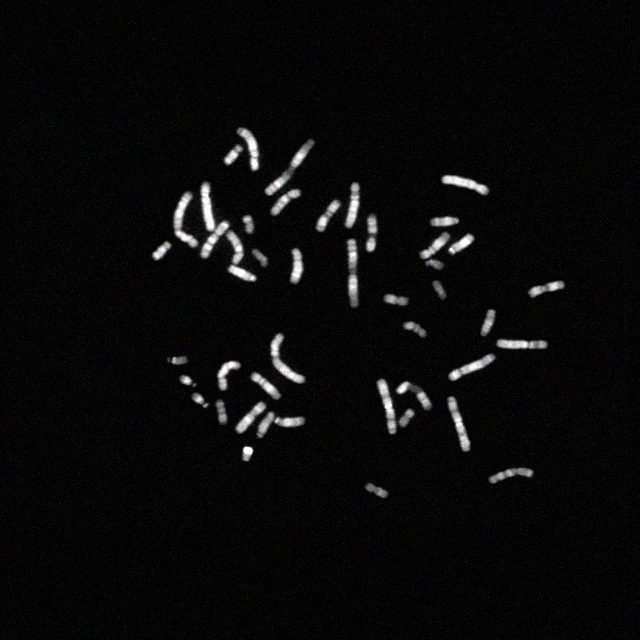chromosome: (264, 138, 314, 196), (270, 334, 306, 384), (173, 192, 200, 246), (449, 354, 495, 381), (448, 396, 470, 452), (376, 378, 396, 436), (200, 220, 230, 258), (442, 175, 490, 198), (396, 380, 432, 410), (237, 126, 260, 170), (236, 402, 266, 432), (249, 372, 281, 400), (270, 190, 302, 216), (315, 200, 341, 232), (344, 182, 362, 228), (488, 467, 534, 485), (347, 240, 359, 308), (420, 232, 450, 258), (201, 182, 217, 230), (528, 280, 566, 300), (217, 360, 241, 390), (497, 338, 547, 352), (228, 231, 245, 263), (228, 264, 258, 282), (450, 233, 474, 255), (290, 248, 304, 284), (257, 412, 275, 438), (366, 214, 378, 252), (480, 309, 496, 336), (402, 322, 428, 338), (152, 241, 172, 261), (384, 293, 411, 307), (275, 416, 305, 428), (224, 144, 242, 164), (429, 216, 461, 227), (432, 278, 448, 300), (366, 482, 388, 498), (252, 248, 268, 268), (216, 400, 228, 424), (167, 355, 189, 367), (192, 392, 208, 408), (398, 410, 414, 426), (179, 373, 197, 387), (243, 214, 255, 233), (425, 259, 443, 271), (242, 445, 252, 461)
